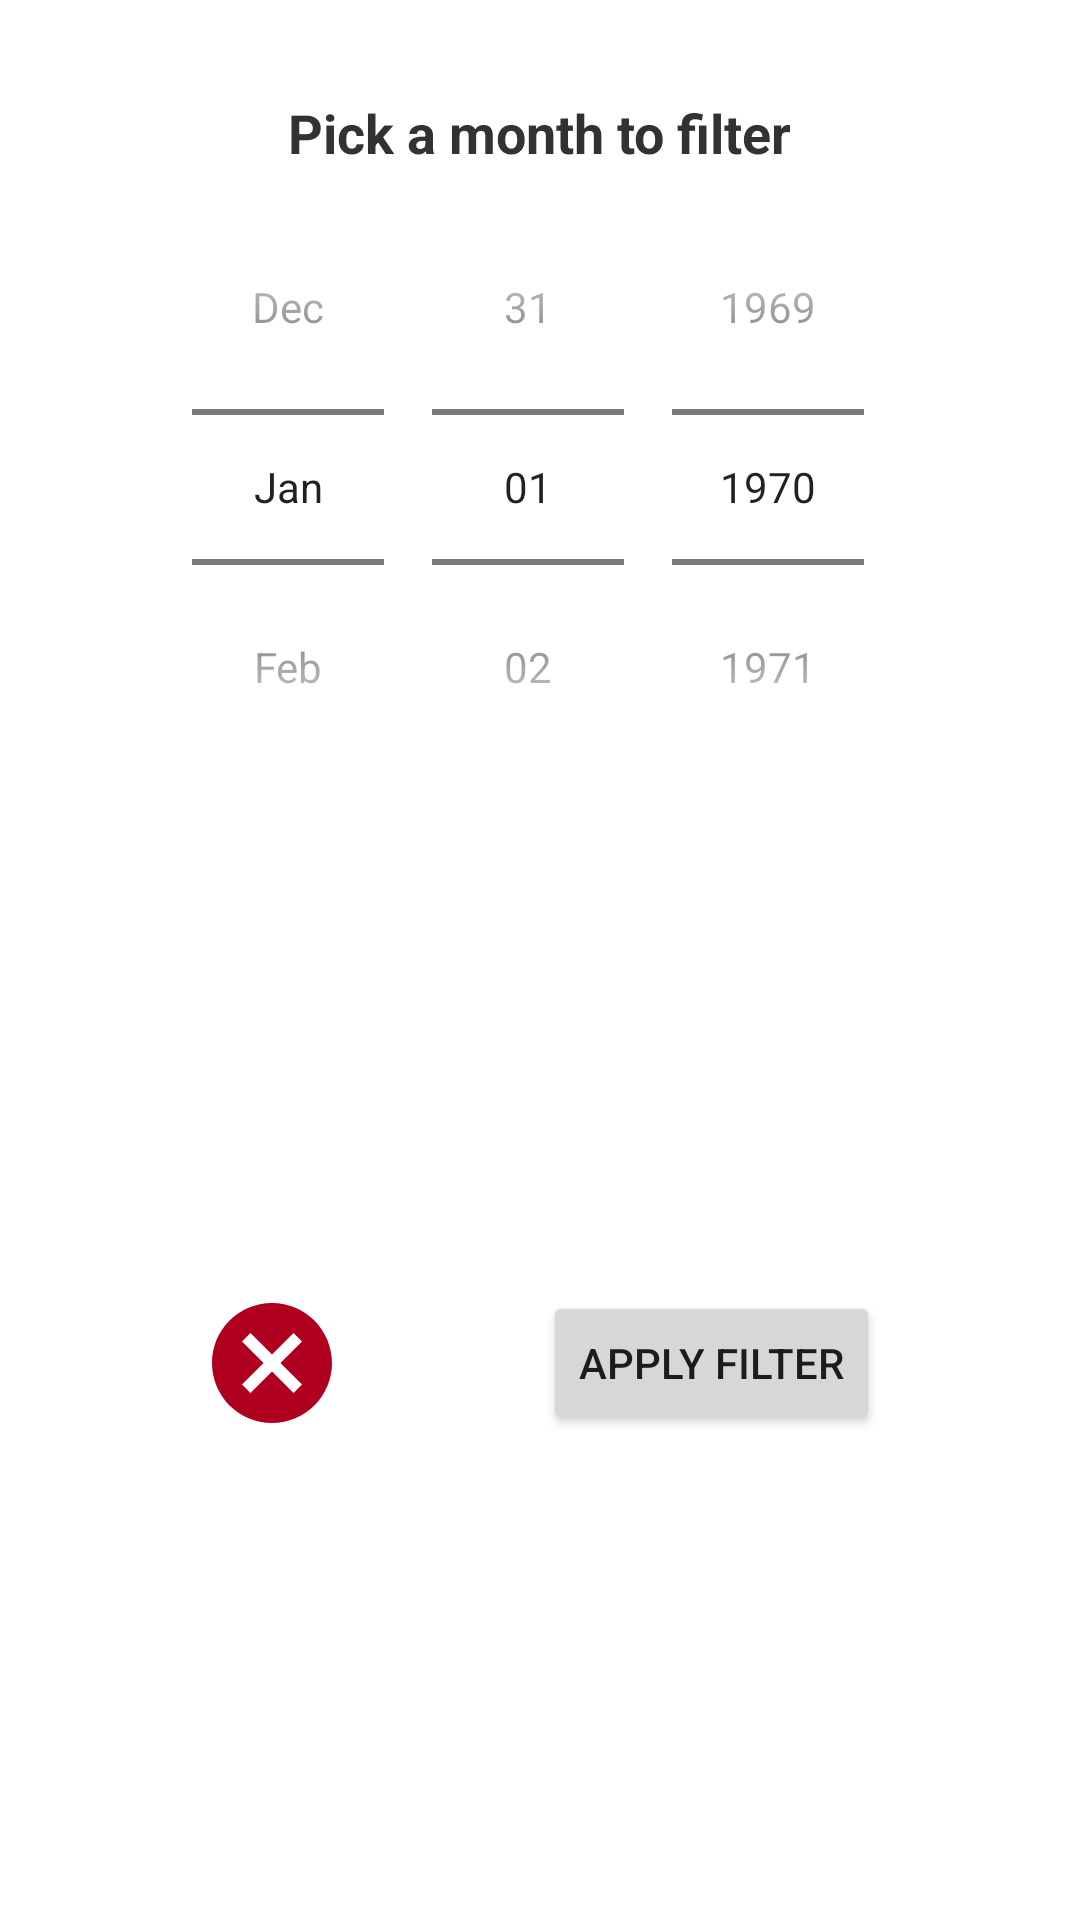

Screen size 1080w x 1920h. Icon name, then its box in pixels as [x1, y1, x2, y2]:
Cancel filter: [212, 1303, 332, 1423]
